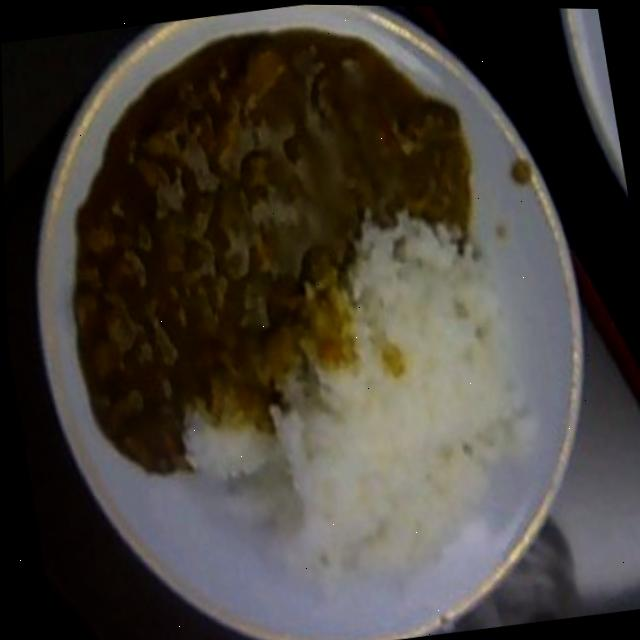牛肉菜式: (0, 0, 631, 640)
